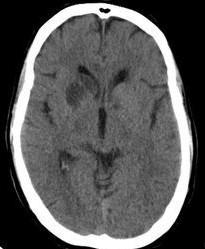Normal_Brain: (3, 3, 205, 249)
